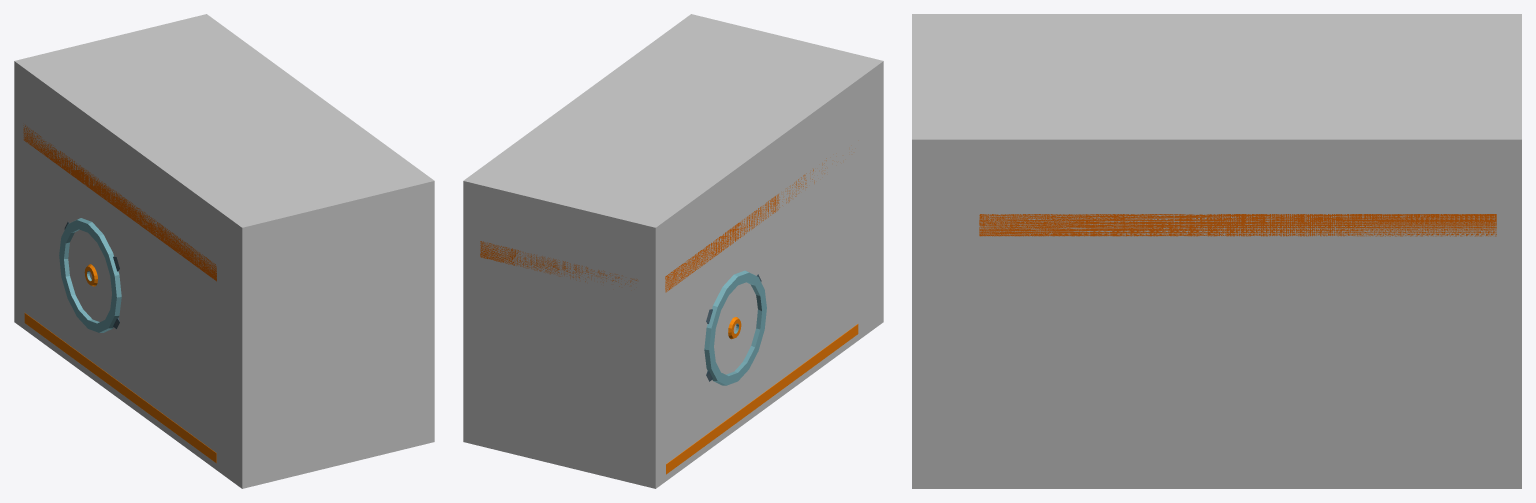
Rendered from SM_ACUnit_03.fbx.
The picture shows the model from 3 angles, left to right: view 1: azimuth 30°, elevation 25°; view 2: azimuth 150°, elevation 25°; view 3: azimuth 270°, elevation 25°; orthographic projection. The views are drawn at different scales.
Visible parts, largest first — view 1: SM_ACUnit_03_ConvexHulls, SM_ACUnit_03; view 2: SM_ACUnit_03_ConvexHulls, SM_ACUnit_03; view 3: SM_ACUnit_03_ConvexHulls, SM_ACUnit_03.
Part boxes in pixels (<box>): SM_ACUnit_03_ConvexHulls: <box>14,14,434,488</box>; SM_ACUnit_03: <box>23,125,216,463</box>; SM_ACUnit_03_ConvexHulls: <box>463,14,883,488</box>; SM_ACUnit_03: <box>480,158,858,474</box>; SM_ACUnit_03_ConvexHulls: <box>912,14,1521,488</box>; SM_ACUnit_03: <box>979,214,1496,236</box>.
Bounding box in the file's own units: 124 × 248 × 157.
